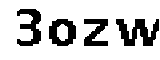3: (11, 7, 45, 52)
o: (50, 16, 78, 48)
w: (116, 13, 160, 51)
z: (81, 16, 113, 50)
